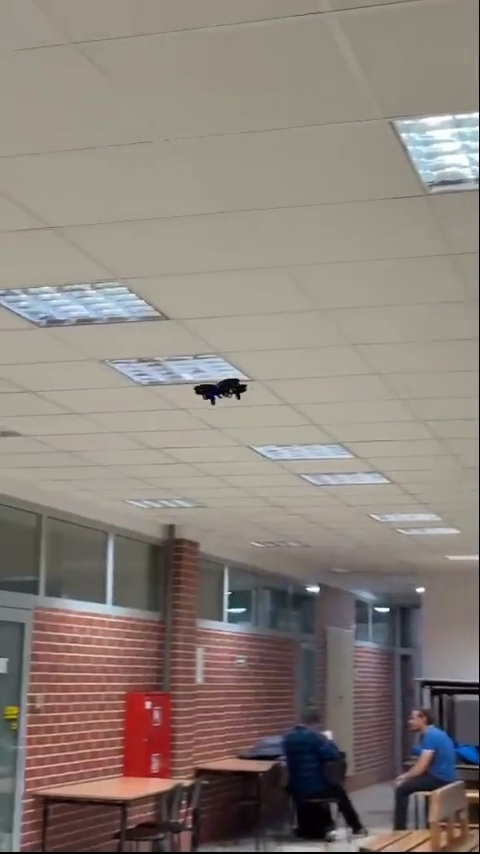drone: (192, 368, 243, 408)
no vest: (279, 709, 355, 807), (396, 709, 456, 805)
